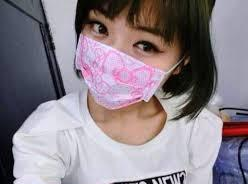OK: (81, 16, 173, 105)
